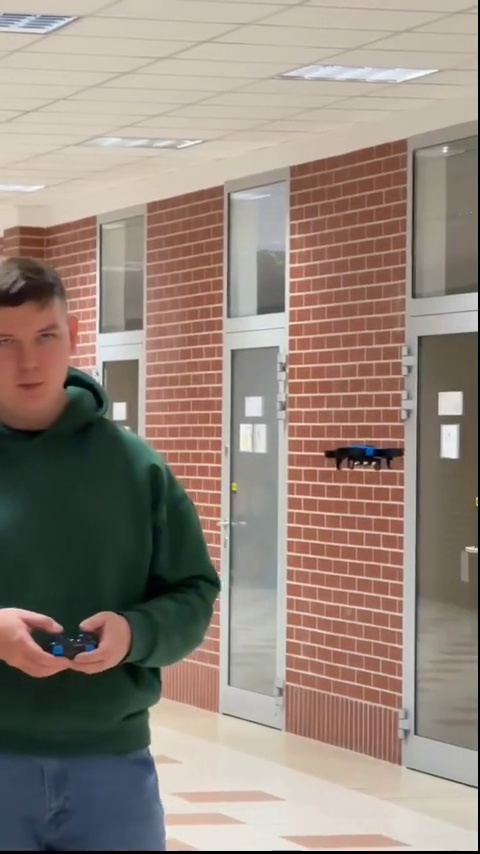drone: (323, 442, 405, 468)
no vest: (0, 254, 226, 842)
